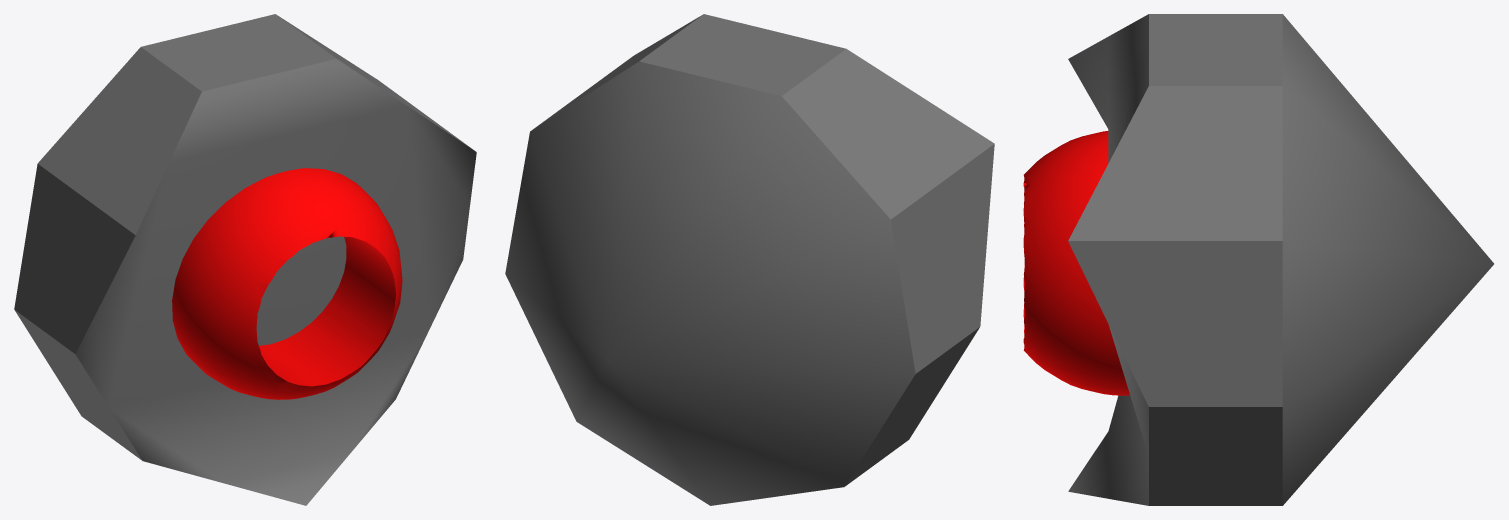
File: enemyPalm.obj
3 renders of one model, left to right at view 1: azimuth 30°, elevation 25°; view 2: azimuth 150°, elevation 25°; view 3: azimuth 270°, elevation 25°, orthographic. The views are drawn at different scales.
Visible parts, largest first — view 1: 球; view 2: 球; view 3: 球.
Part boxes in pixels (left/top/right/bottom): 球: left=14, top=14, right=476, bottom=505; 球: left=505, top=14, right=994, bottom=505; 球: left=1023, top=14, right=1493, bottom=505.
Bounding box in the file's own units: 1.29 × 1.28 × 1.24.
